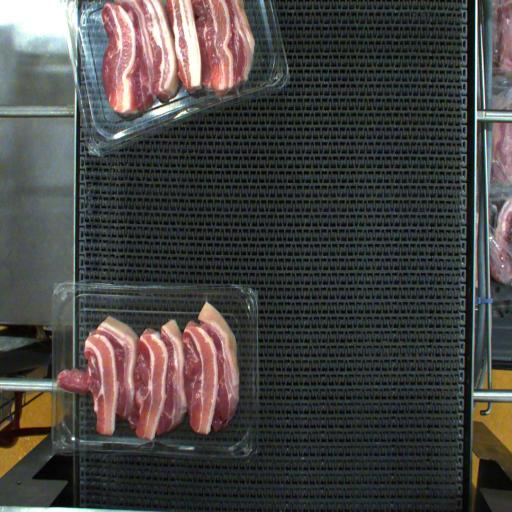loose-meat: (62, 363, 98, 416)
packaging-error: (173, 283, 222, 324)
